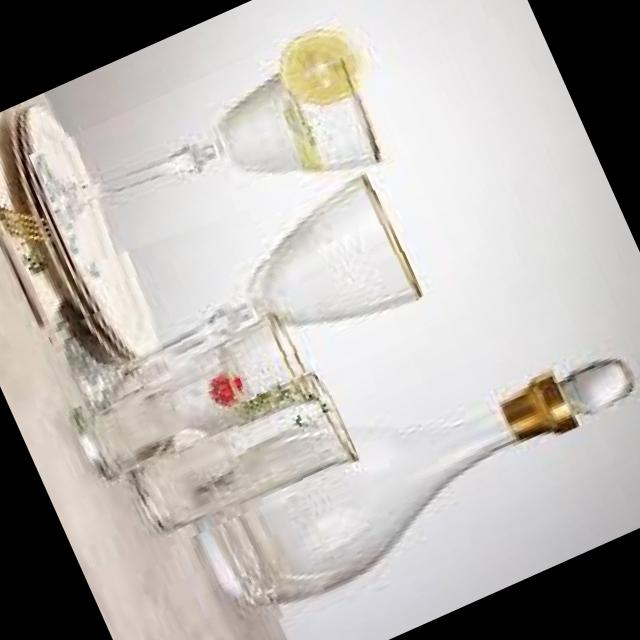Glass: (163, 291, 640, 640), (28, 13, 410, 296), (40, 174, 423, 443), (53, 301, 316, 494), (110, 367, 360, 555)
